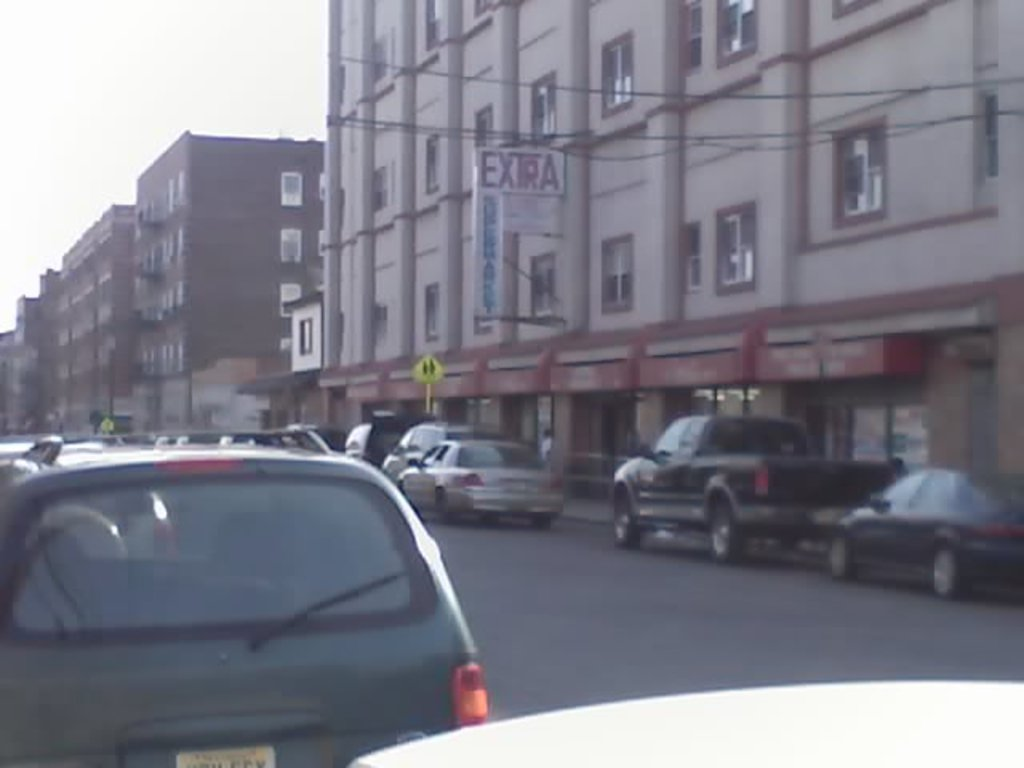Car: (0, 436, 484, 766), (819, 460, 1022, 608), (0, 425, 180, 563), (388, 436, 571, 528), (379, 416, 513, 489), (220, 427, 336, 456)
